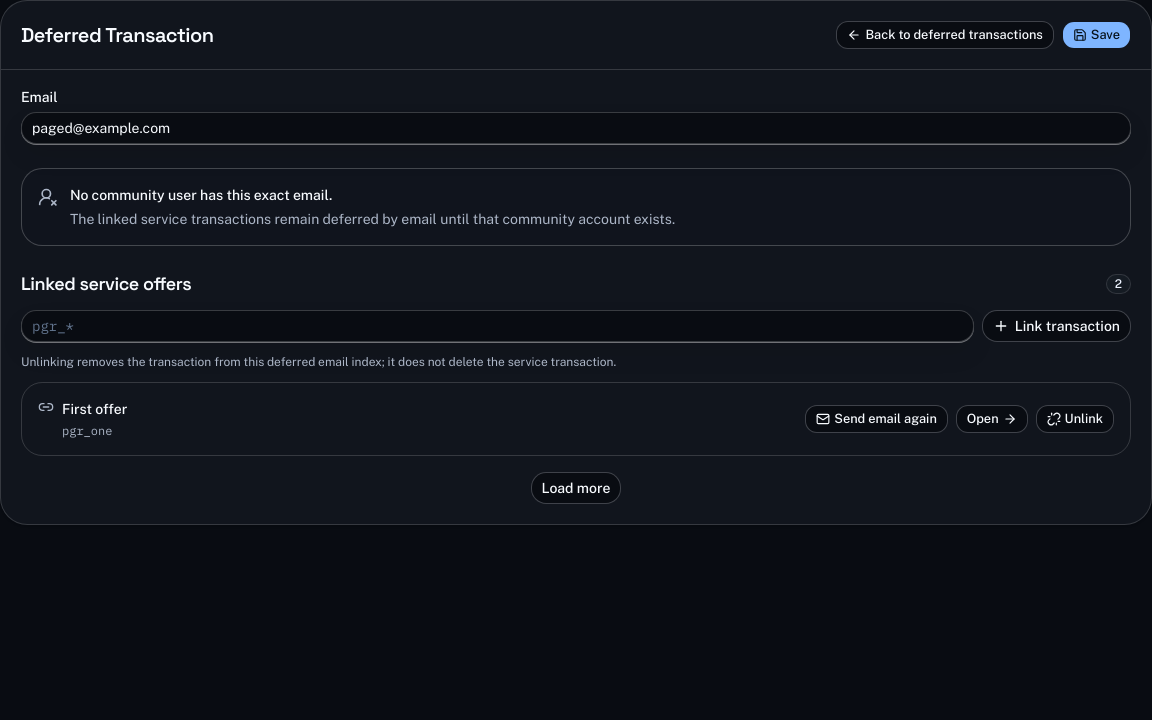
Test case: deferred service transaction workbenches › paginates linked service offer summaries twenty at a time
Expected: the text "First offer" is shown, top-left (62, 399), bottom-right (127, 419)
Expected: the text "Second offer" is not shown
Click the button "Load more".
click(576, 488)  # box top-left (531, 472), bottom-right (622, 504)
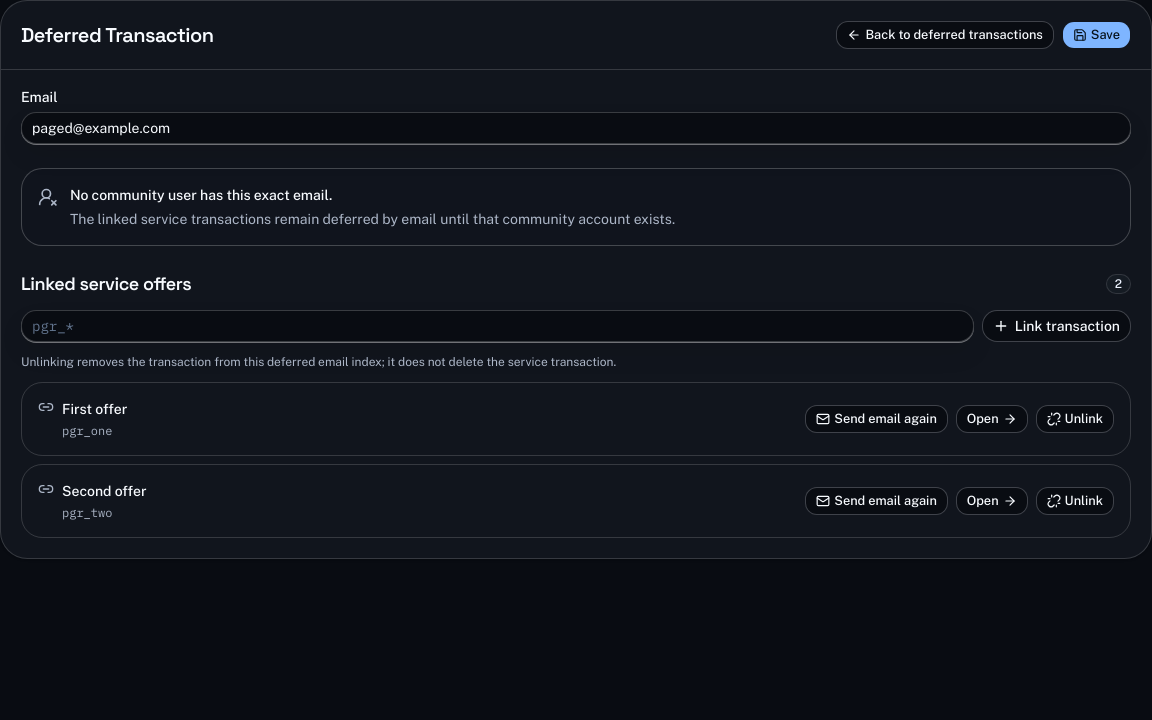
Expected: the text "Second offer" is shown, top-left (62, 481), bottom-right (147, 501)
